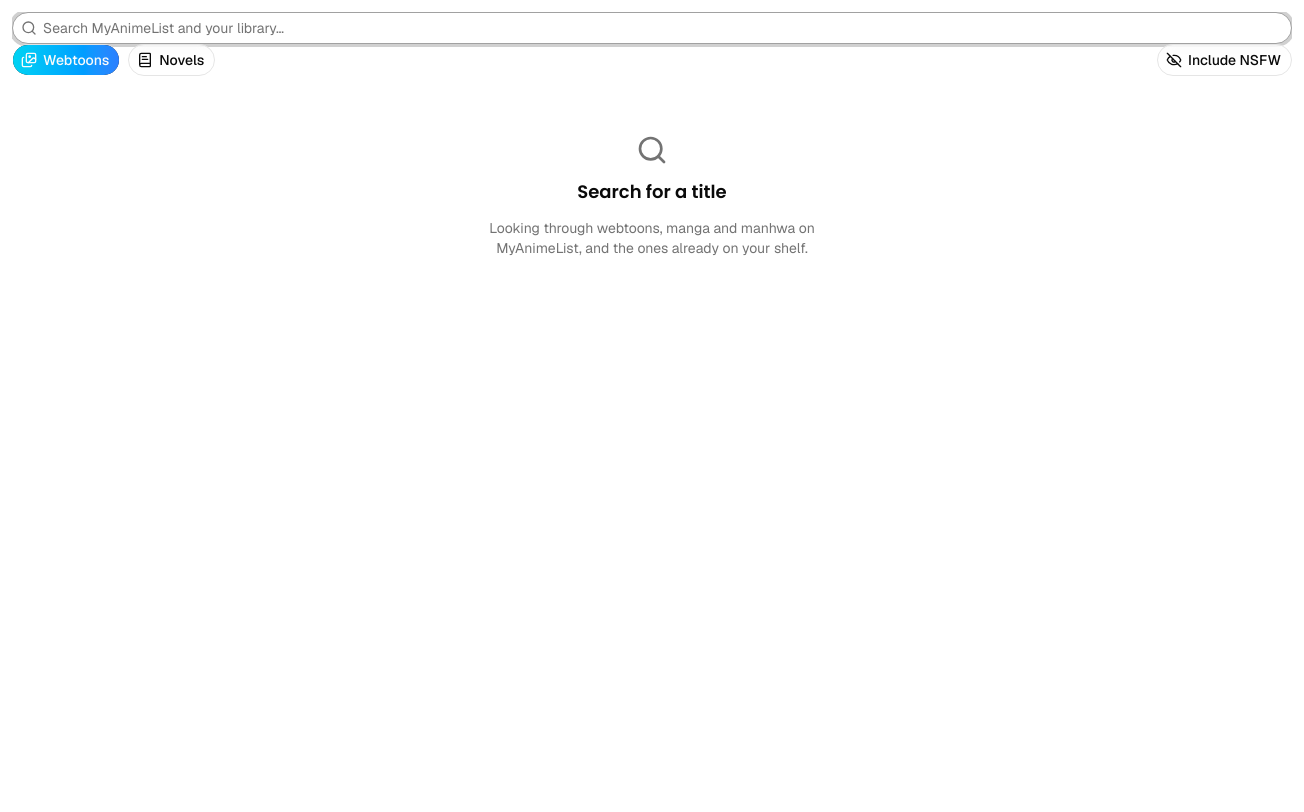
Scenario: the catalog half › names the catalog that failed rather than showing a short list silently
The image size is (1304, 812).
Type "solo" into the search field named "Search titles" at (664, 28), box x1=37 y1=12 x2=1291 y2=44
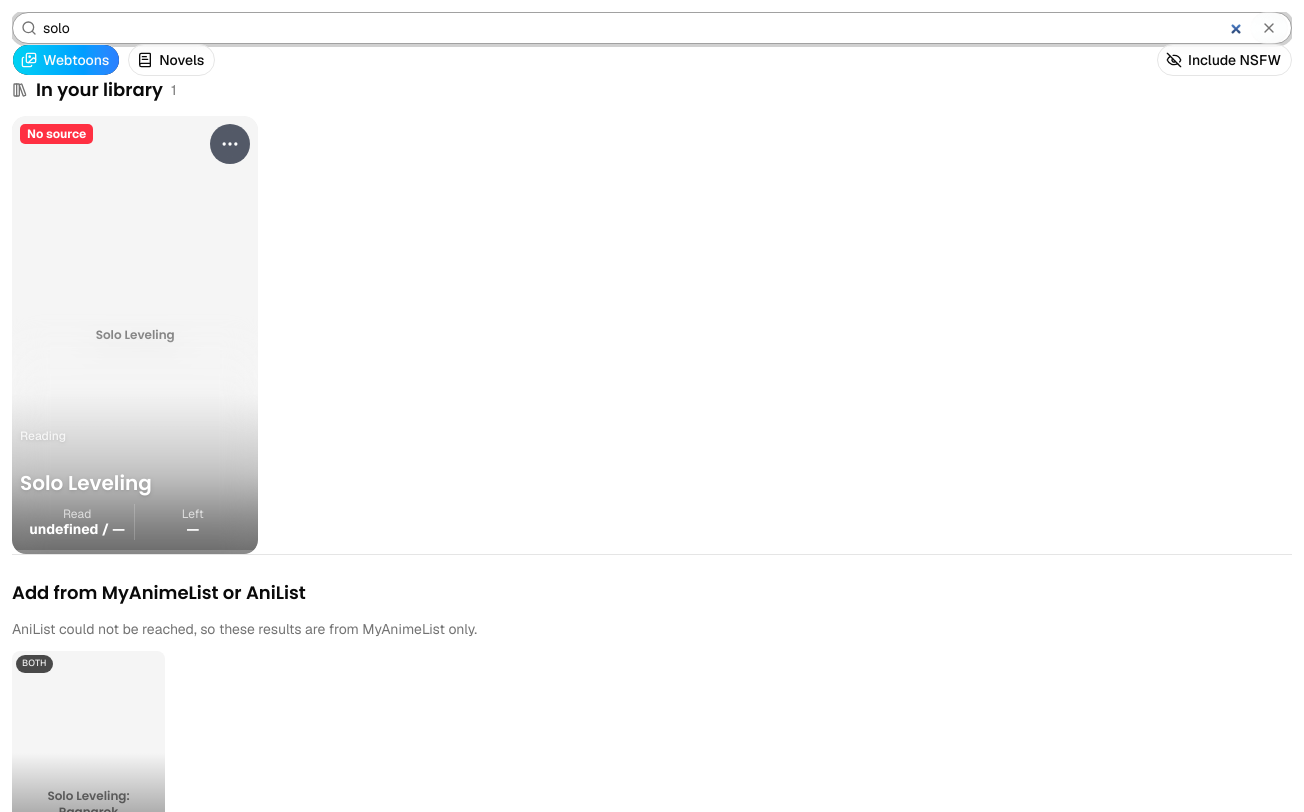
Expected: the text "AniList could not be reached" is shown, x1=12 y1=620 x2=477 y2=638
